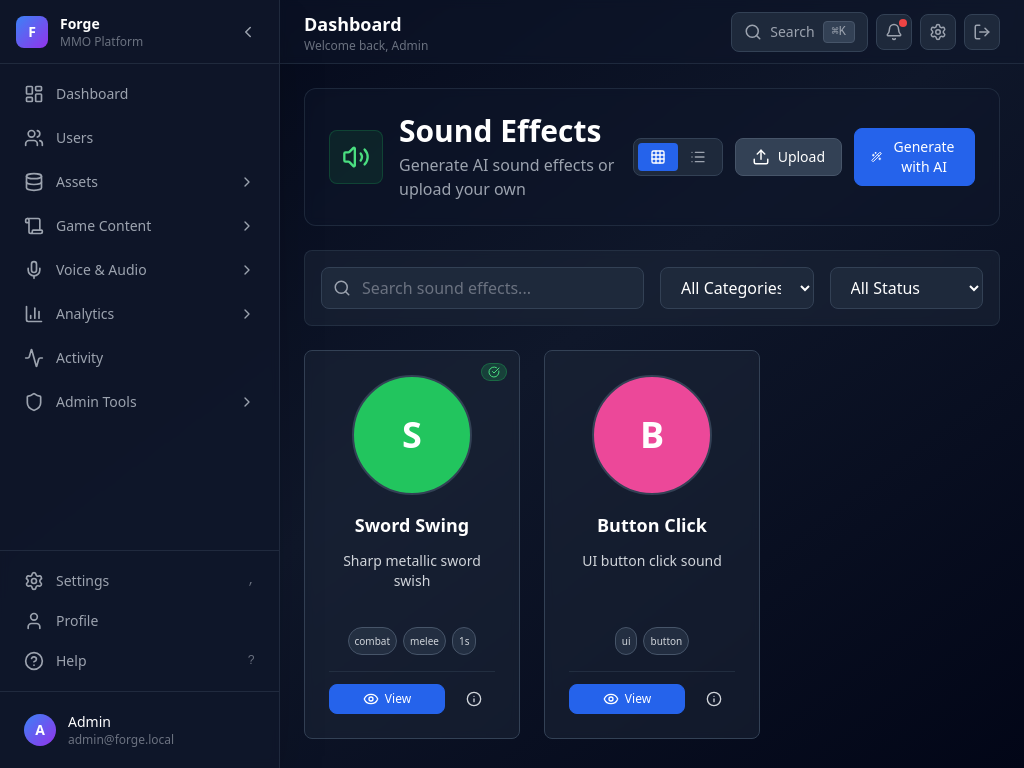
SoundEffectsPage - Integration Tests › AI Generation › opens generation modal when "Generate with AI" is clicked
This screenshot has width=1024, height=768.
Expected: the heading "Sword Swing" is shown, left=355, top=513, right=469, bottom=537
Click the button "Generate with AI" at (914, 157), box left=854, top=128, right=975, bottom=186
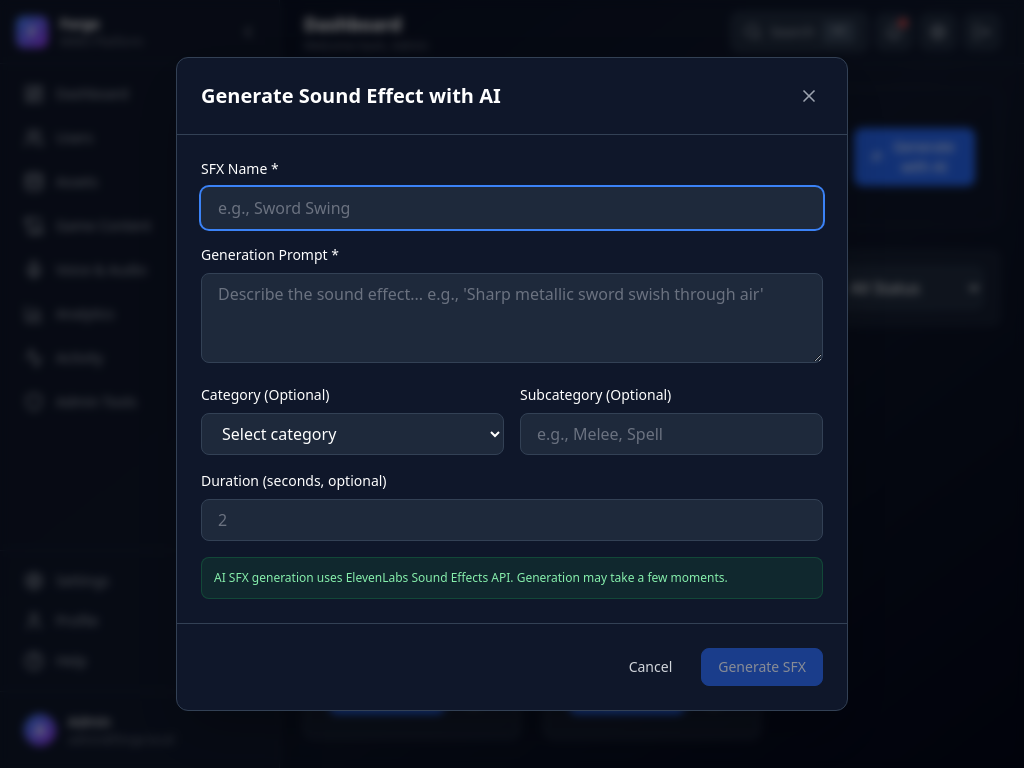
Expected: the heading "Generate Sound Effect with AI" is shown, left=201, top=82, right=501, bottom=110
Expected: the field with placeholder "e.g., Sword Swing" is shown, left=201, top=187, right=823, bottom=229
